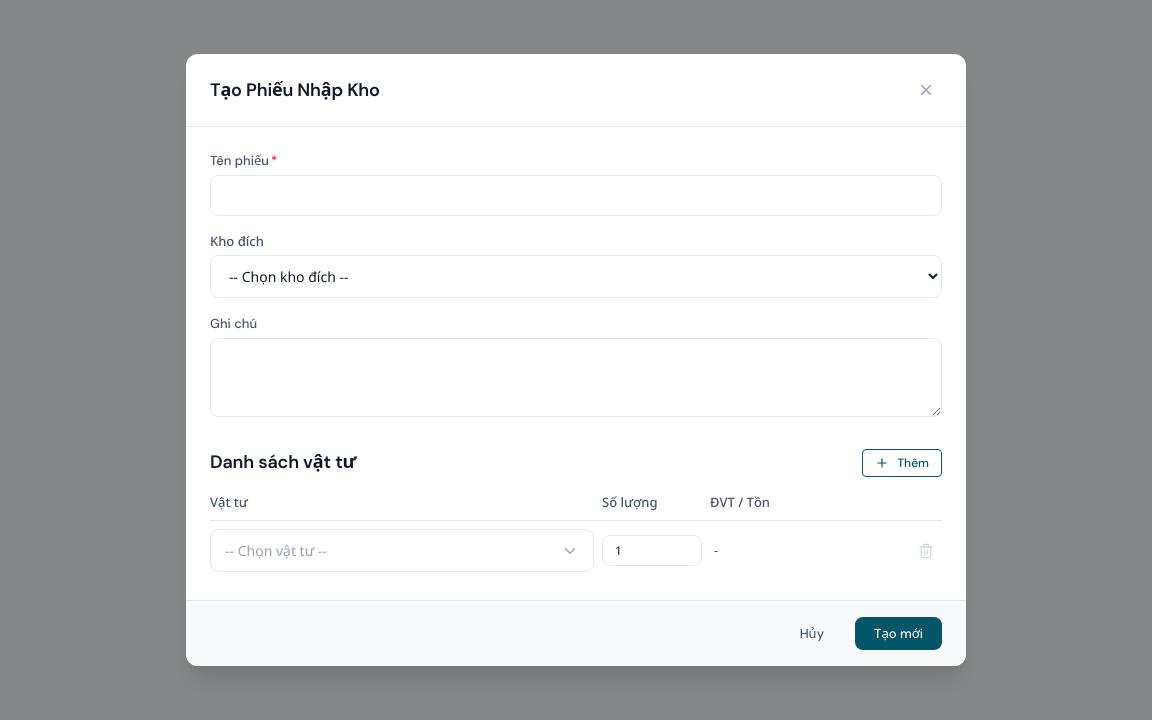
Test case: StockEntryForm › submits stock_in form successfully
The image size is (1152, 720).
Type "PN001" into the field labelled "Tên phiếu*".
click(576, 195); type("PN001")  # box [210, 174, 942, 216]
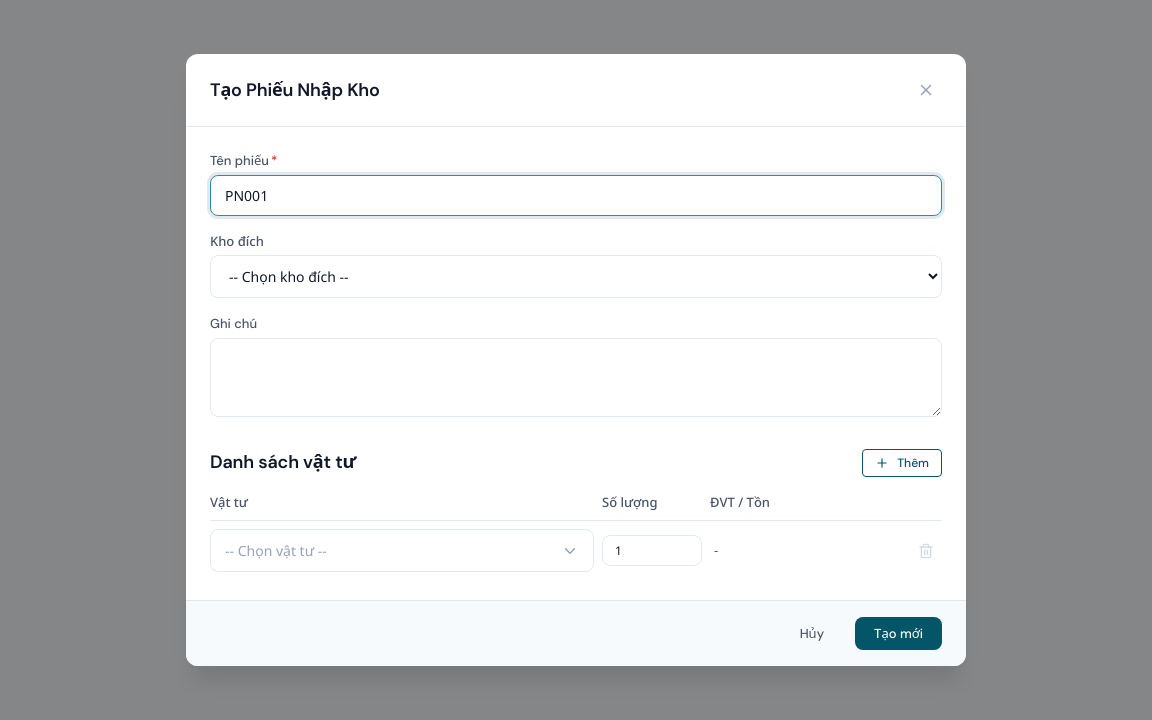
Select "Kho 1" in the dropdown labelled "Kho đích" at (576, 276), box [210, 255, 942, 298]
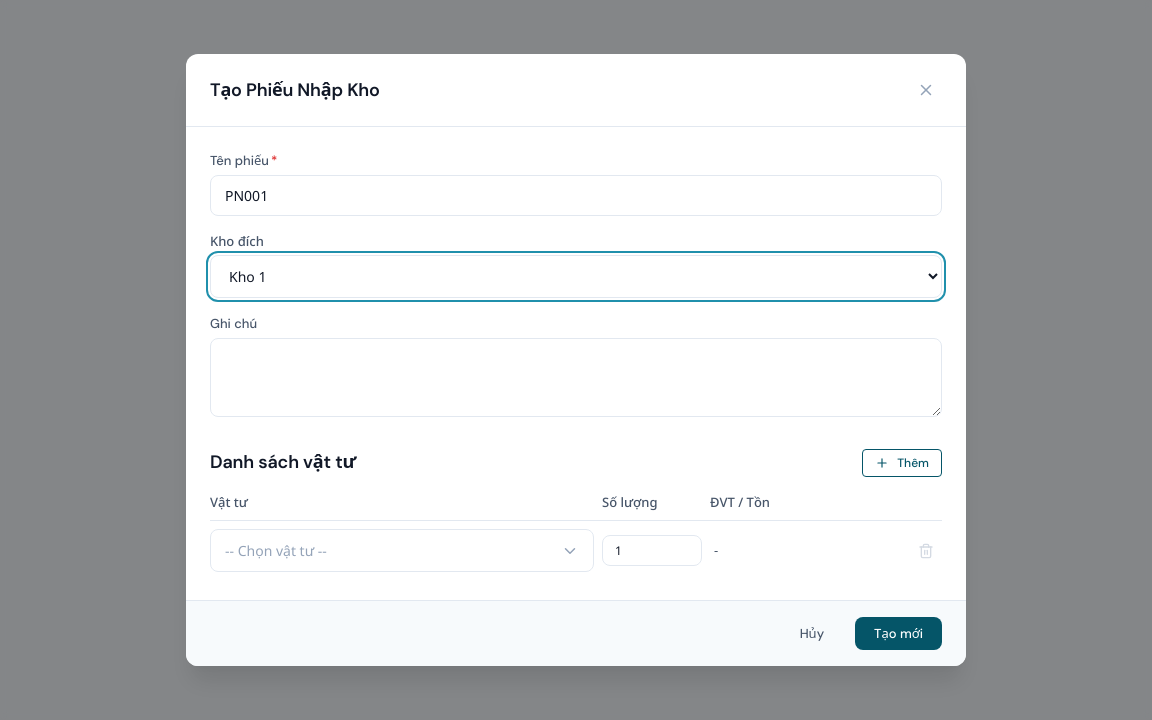
Click the dropdown named "Mã vật tư".
click(402, 550)  # box [210, 529, 594, 572]
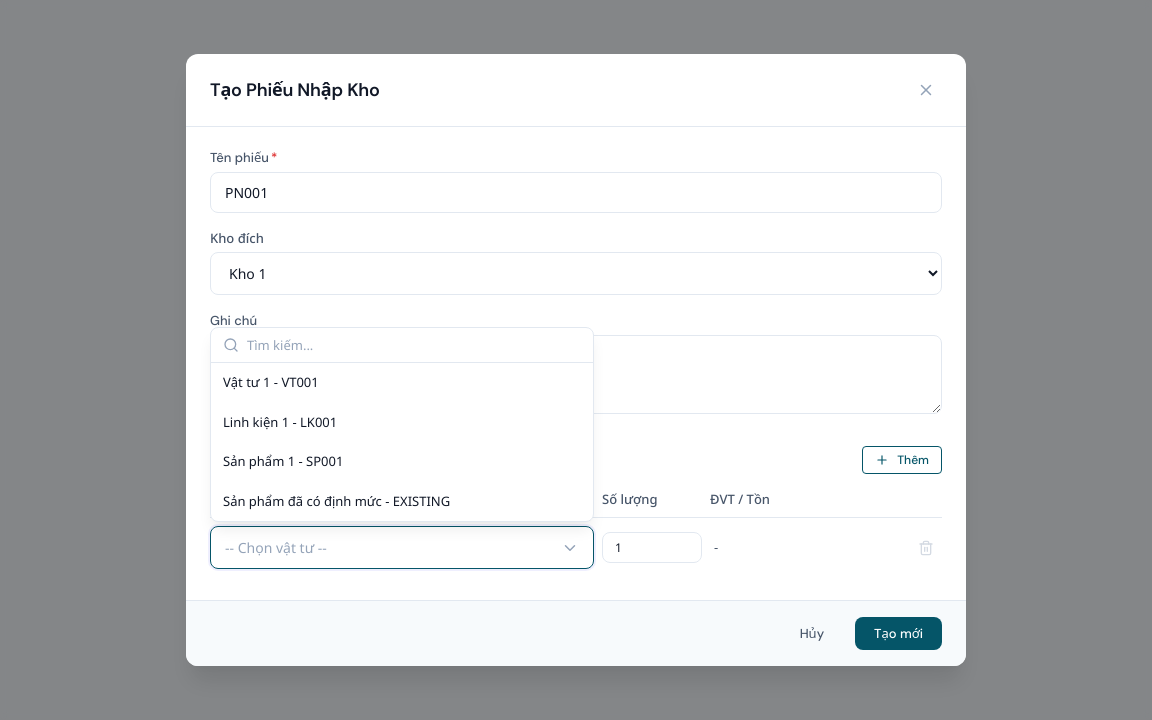
Click the option "Vật tư 1 - VT001".
click(271, 382)  # box [223, 373, 319, 391]
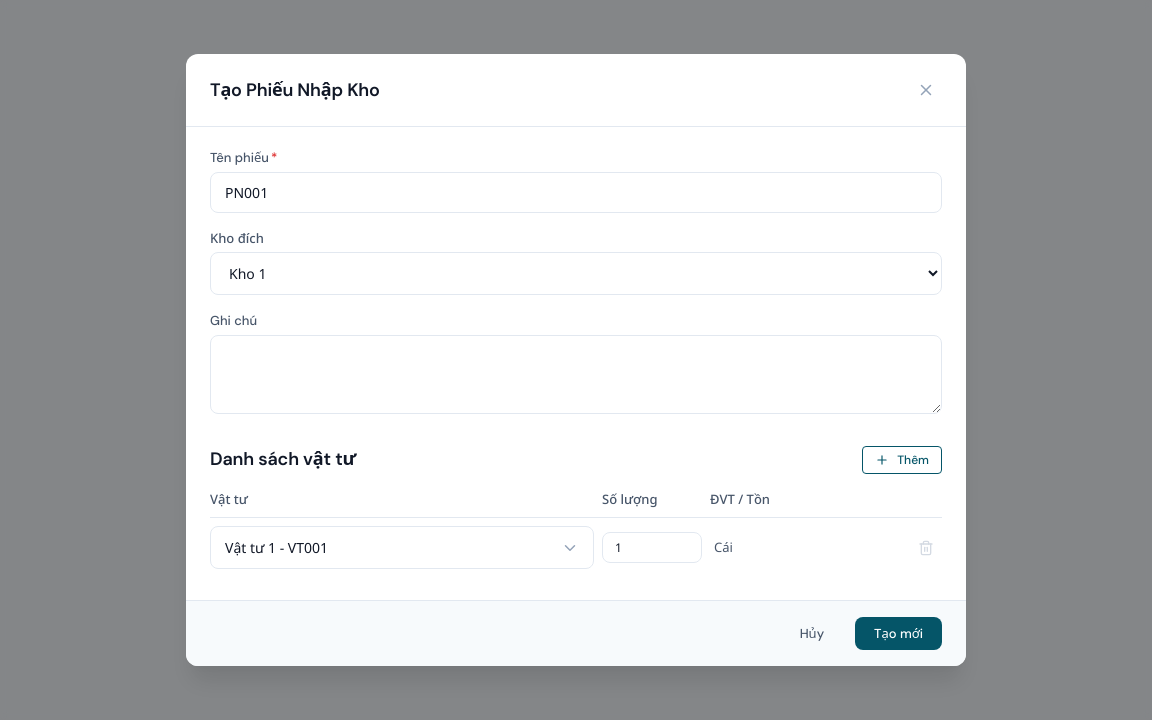
Click the button "Tạo mới".
click(899, 634)  # box [855, 617, 942, 650]
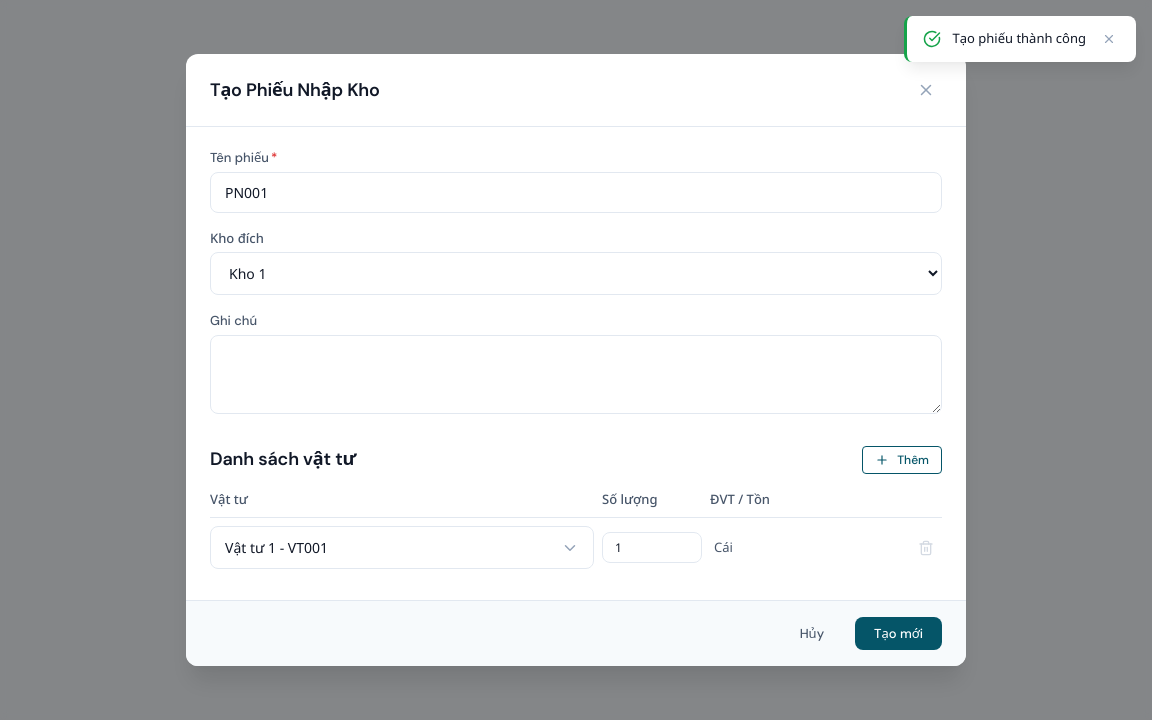
Expected: the text "Tạo phiếu thành công" is shown, [952, 29, 1086, 49]
